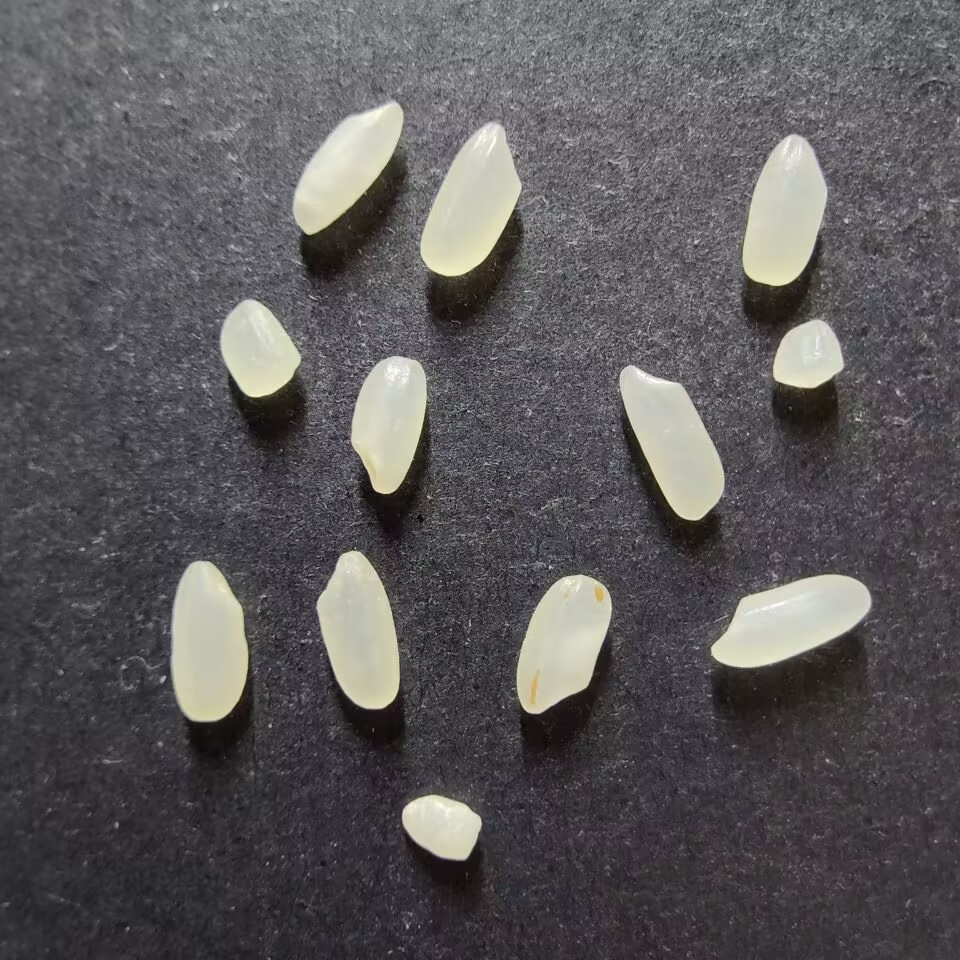broken: (219, 299, 301, 398), (401, 794, 482, 861), (771, 318, 844, 389)
rice: (617, 363, 725, 521), (418, 121, 522, 277), (710, 573, 871, 668), (292, 101, 403, 236), (515, 574, 612, 716), (315, 550, 400, 709), (741, 134, 827, 286), (169, 560, 248, 722), (349, 355, 427, 494)
